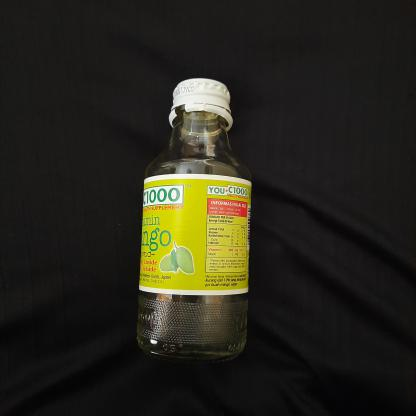bottle: (132, 74, 256, 375)
